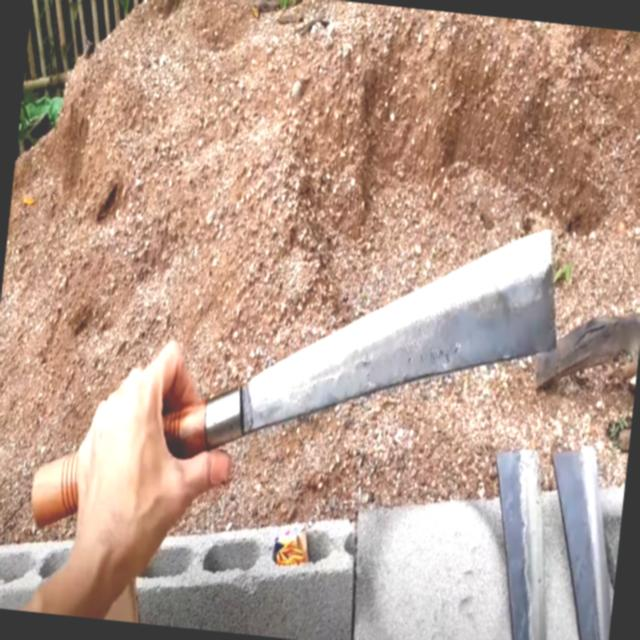eto: (29, 223, 558, 532)
